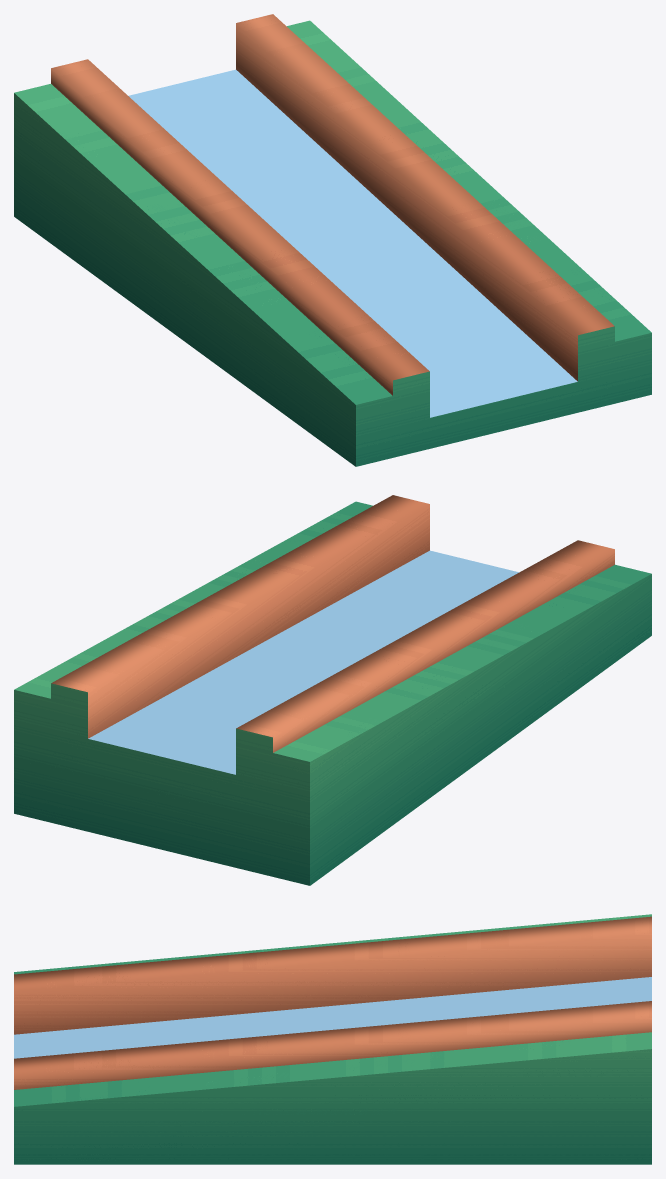
Rendered from tile_river_slope_large.glb.
3 renders of one model, top to bottom at view 1: azimuth 30°, elevation 25°; view 2: azimuth 150°, elevation 25°; view 3: azimuth 270°, elevation 25°, orthographic. The views are drawn at different scales.
Parts seen in each view (by area): view 1: tile-river-slope-large; view 2: tile-river-slope-large; view 3: tile-river-slope-large.
Boxes of the visible parts, <box> form: tile-river-slope-large: <box>14,14,651,466</box>; tile-river-slope-large: <box>14,495,651,885</box>; tile-river-slope-large: <box>14,914,651,1164</box>.
Bounding box in the file's own units: 1 × 0.45 × 2.
Materials: 1 (1 with a texture image).
